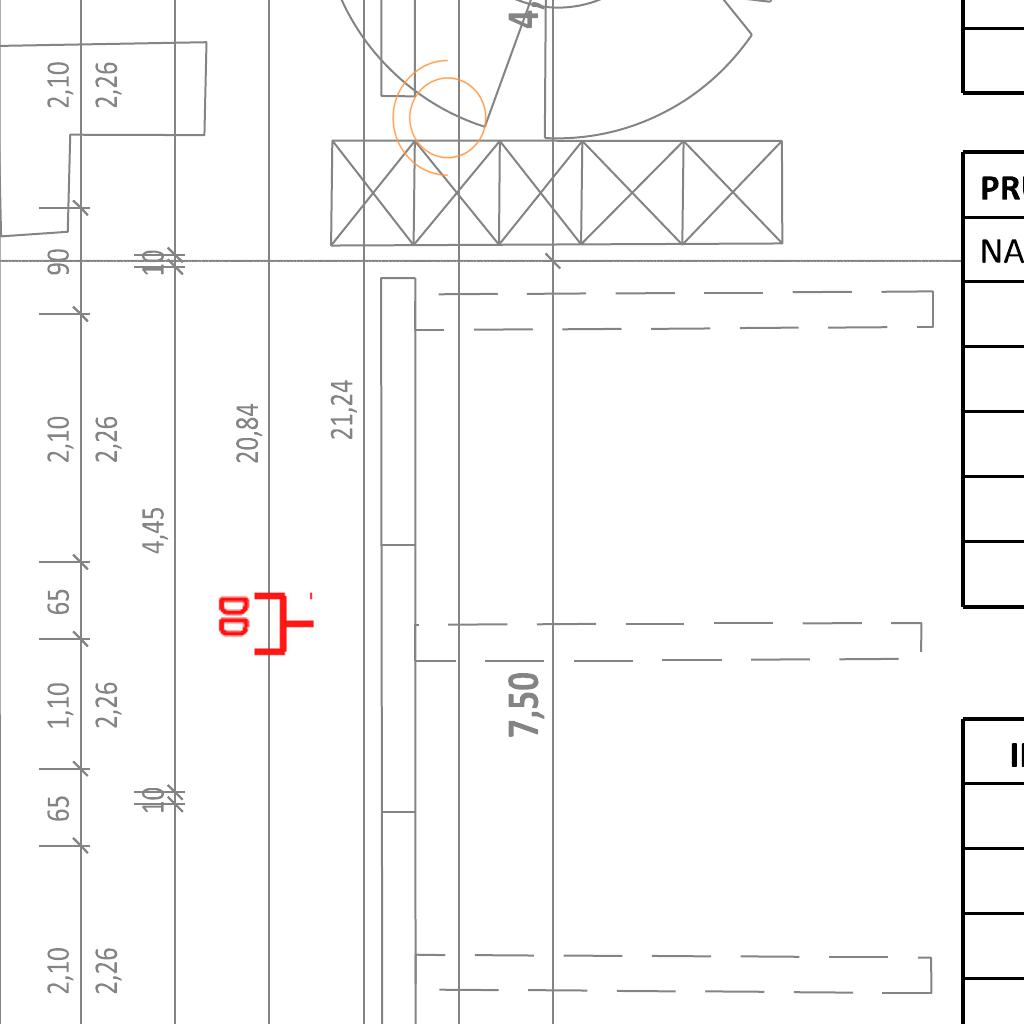Datenanschluss_zweifach: (214, 591, 317, 660)
Scheinwerfer_fuer_Alarmbeleuchtung: (387, 55, 499, 187)
